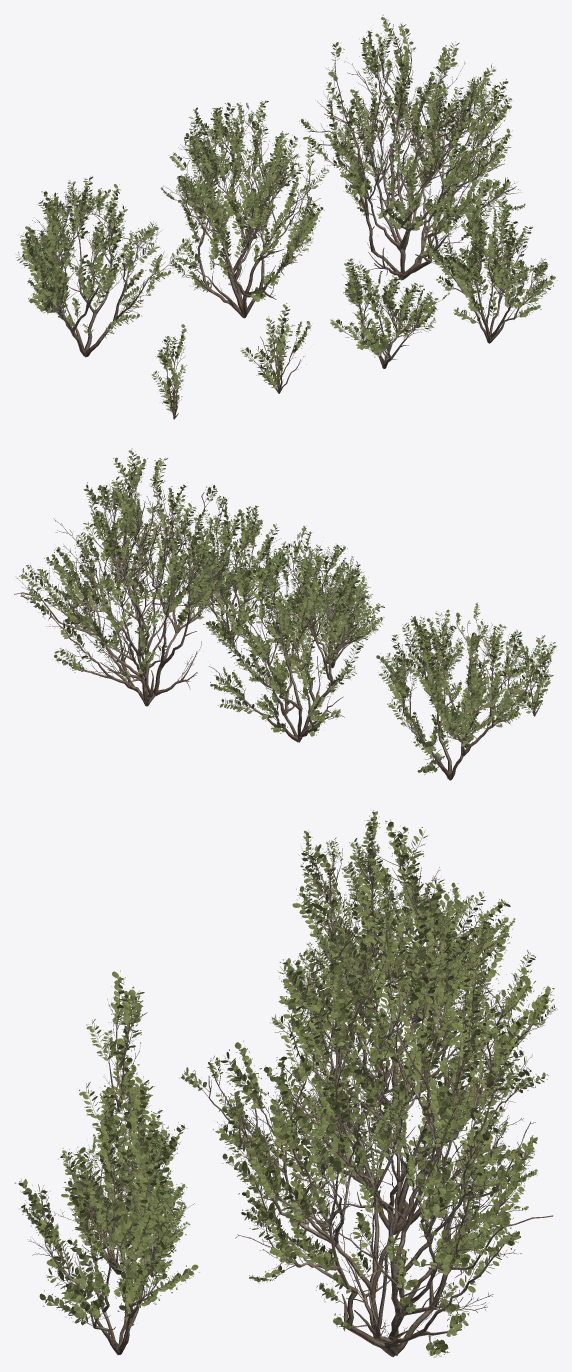
File: searsia_lucida.glb
3 renders of one model, top to bottom at view 1: azimuth 30°, elevation 25°; view 2: azimuth 150°, elevation 25°; view 3: azimuth 270°, elevation 25°, orthographic. The views are drawn at different scales.
Visible parts, largest first — view 1: searsia_lucida_a_mesh, searsia_lucida_b_mesh, searsia_lucida_c_mesh, searsia_lucida_d_mesh, searsia_lucida_e_mesh, searsia_lucida_f_mesh, searsia_lucida_g_mesh; view 2: searsia_lucida_a_mesh, searsia_lucida_b_mesh, searsia_lucida_c_mesh, searsia_lucida_d_mesh, searsia_lucida_e_mesh, searsia_lucida_f_mesh, searsia_lucida_g_mesh; view 3: searsia_lucida_a_mesh, searsia_lucida_b_mesh, searsia_lucida_d_mesh, searsia_lucida_c_mesh, searsia_lucida_e_mesh, searsia_lucida_g_mesh, searsia_lucida_f_mesh.
Boxes of the visible parts, box(x1,y1,x2,y2) form: searsia_lucida_a_mesh: box(299, 14, 525, 280); searsia_lucida_b_mesh: box(160, 100, 328, 318); searsia_lucida_c_mesh: box(16, 176, 195, 357); searsia_lucida_d_mesh: box(422, 182, 557, 343); searsia_lucida_e_mesh: box(330, 258, 449, 368); searsia_lucida_f_mesh: box(240, 303, 312, 393); searsia_lucida_g_mesh: box(151, 324, 187, 419); searsia_lucida_a_mesh: box(14, 448, 268, 706); searsia_lucida_b_mesh: box(203, 525, 372, 742); searsia_lucida_c_mesh: box(376, 602, 556, 780); searsia_lucida_d_mesh: box(171, 498, 294, 641); searsia_lucida_e_mesh: box(283, 569, 384, 668); searsia_lucida_f_mesh: box(401, 615, 464, 688); searsia_lucida_g_mesh: box(510, 633, 553, 716); searsia_lucida_a_mesh: box(179, 953, 553, 1357); searsia_lucida_b_mesh: box(269, 884, 557, 1234); searsia_lucida_d_mesh: box(14, 1109, 199, 1355); searsia_lucida_c_mesh: box(278, 810, 515, 1112); searsia_lucida_e_mesh: box(54, 1073, 187, 1274); searsia_lucida_g_mesh: box(86, 970, 147, 1111); searsia_lucida_f_mesh: box(79, 1080, 169, 1192).
Size of the model in its own units: 4.79 by 2.34 by 2.87.
2 materials, 2 textured.
